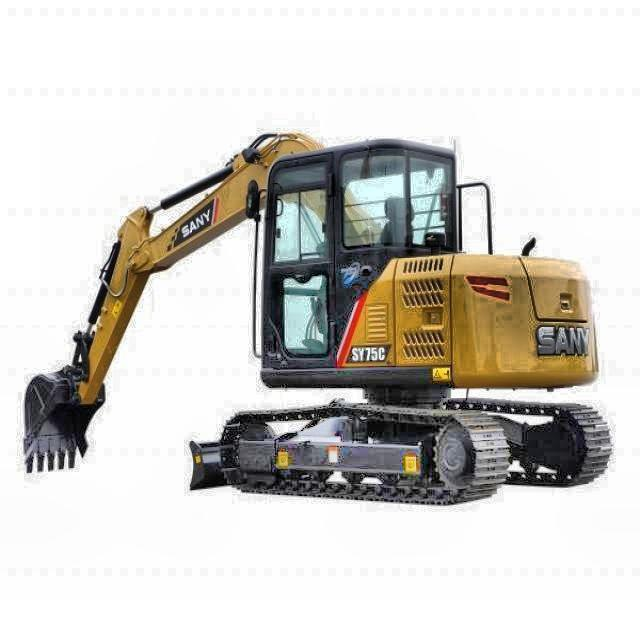excavator: (20, 130, 613, 509)
